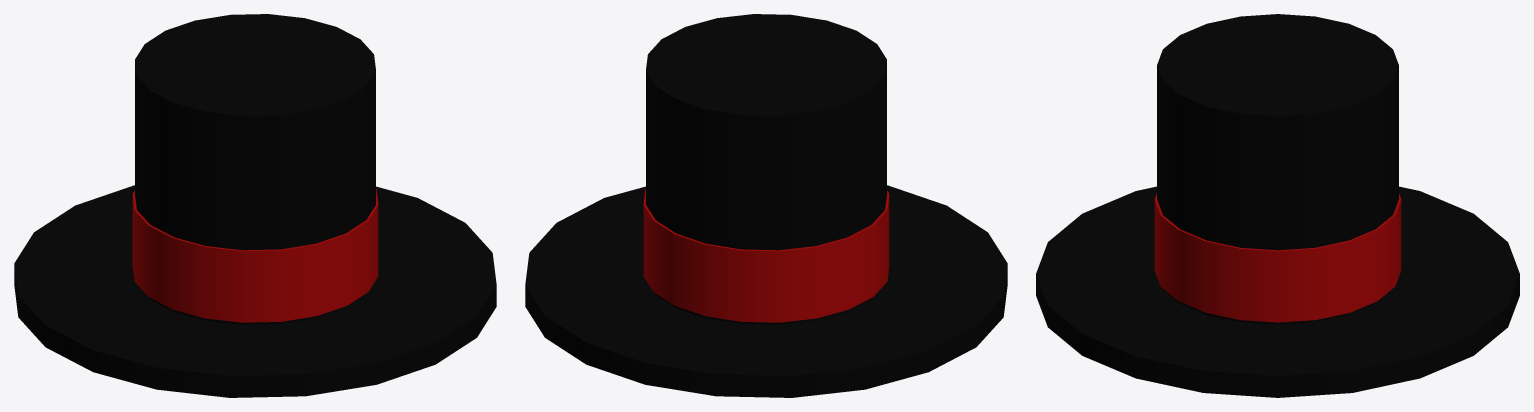
File: blackredtophat textured.fbx
The picture shows the model from 3 angles, left to right: view 1: azimuth 30°, elevation 25°; view 2: azimuth 150°, elevation 25°; view 3: azimuth 270°, elevation 25°; orthographic projection.
Parts seen in each view (by area): view 1: pCylinder1, pPipe1, pPipe2; view 2: pCylinder1, pPipe1, pPipe2; view 3: pCylinder1, pPipe1, pPipe2.
Boxes of the visible parts, left/top/right/bottom form: pCylinder1: left=14, top=185, right=496, bottom=397; pPipe1: left=135, top=14, right=375, bottom=324; pPipe2: left=132, top=188, right=378, bottom=322; pCylinder1: left=525, top=185, right=1007, bottom=397; pPipe1: left=646, top=14, right=886, bottom=324; pPipe2: left=643, top=188, right=889, bottom=322; pCylinder1: left=1036, top=186, right=1519, bottom=397; pPipe1: left=1157, top=14, right=1398, bottom=324; pPipe2: left=1154, top=193, right=1401, bottom=322.
Size of the model in its own units: 2 by 1.05 by 2.
